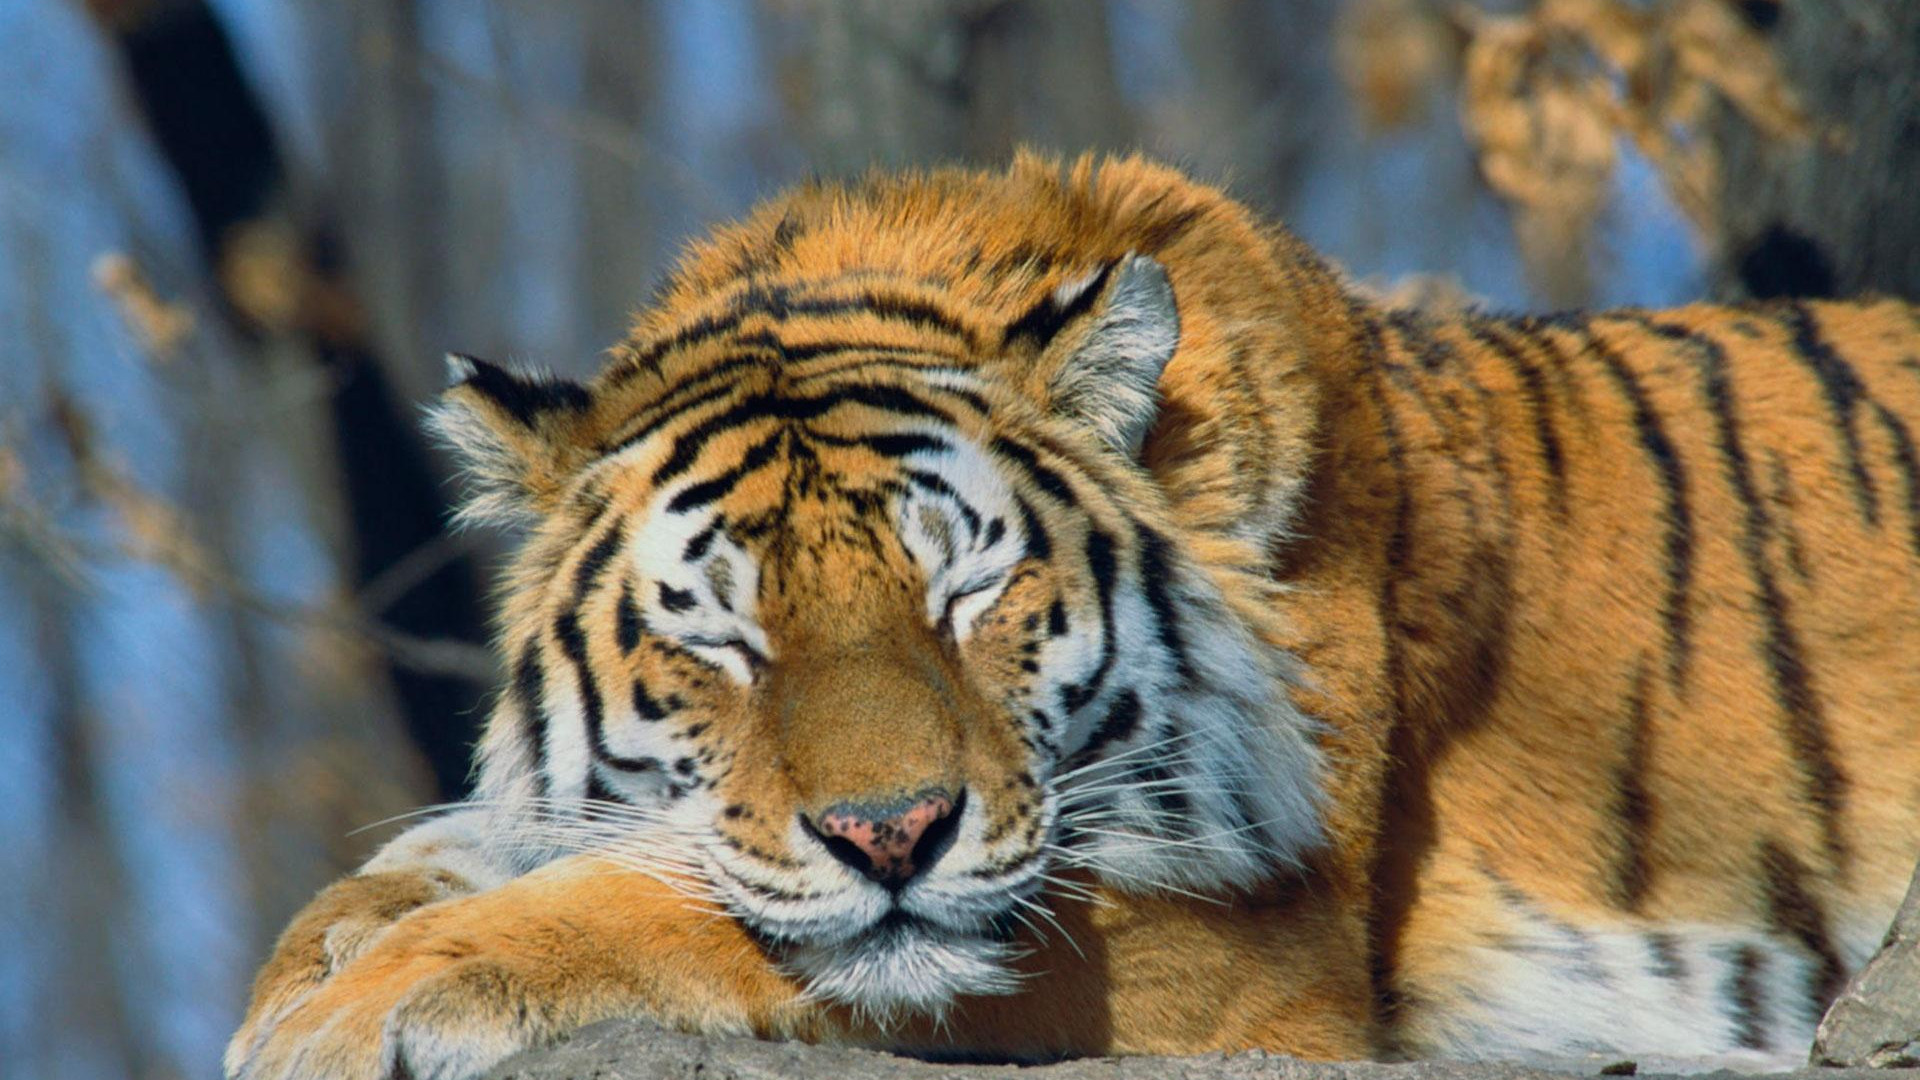Tigrew: (290, 116, 1817, 1080)
